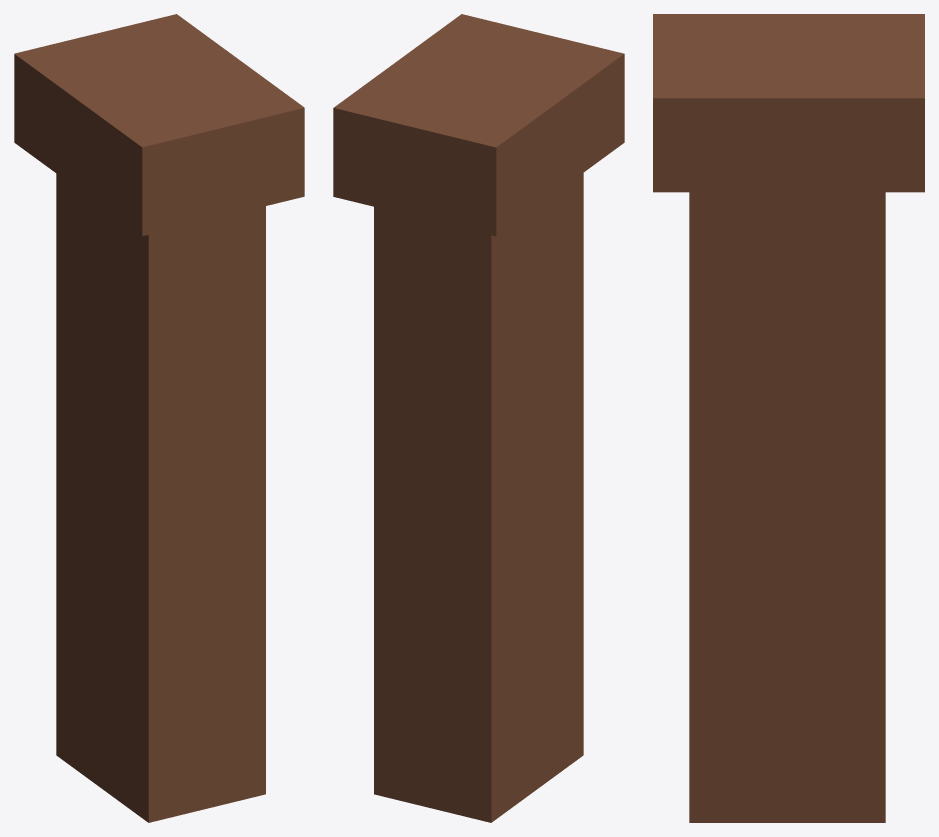
File: Fence01_Post.fbx
The picture shows the model from 3 angles, left to right: view 1: azimuth 30°, elevation 25°; view 2: azimuth 150°, elevation 25°; view 3: azimuth 270°, elevation 25°; orthographic projection. The views are drawn at different scales.
Visible parts, largest first — view 1: Cube; view 2: Cube; view 3: Cube.
Boxes of the visible parts, bbox=[...] form: Cube: bbox=[14, 14, 304, 822]; Cube: bbox=[333, 14, 624, 822]; Cube: bbox=[653, 14, 924, 822].
Bounding box in the file's own units: 203 × 829 × 277.
